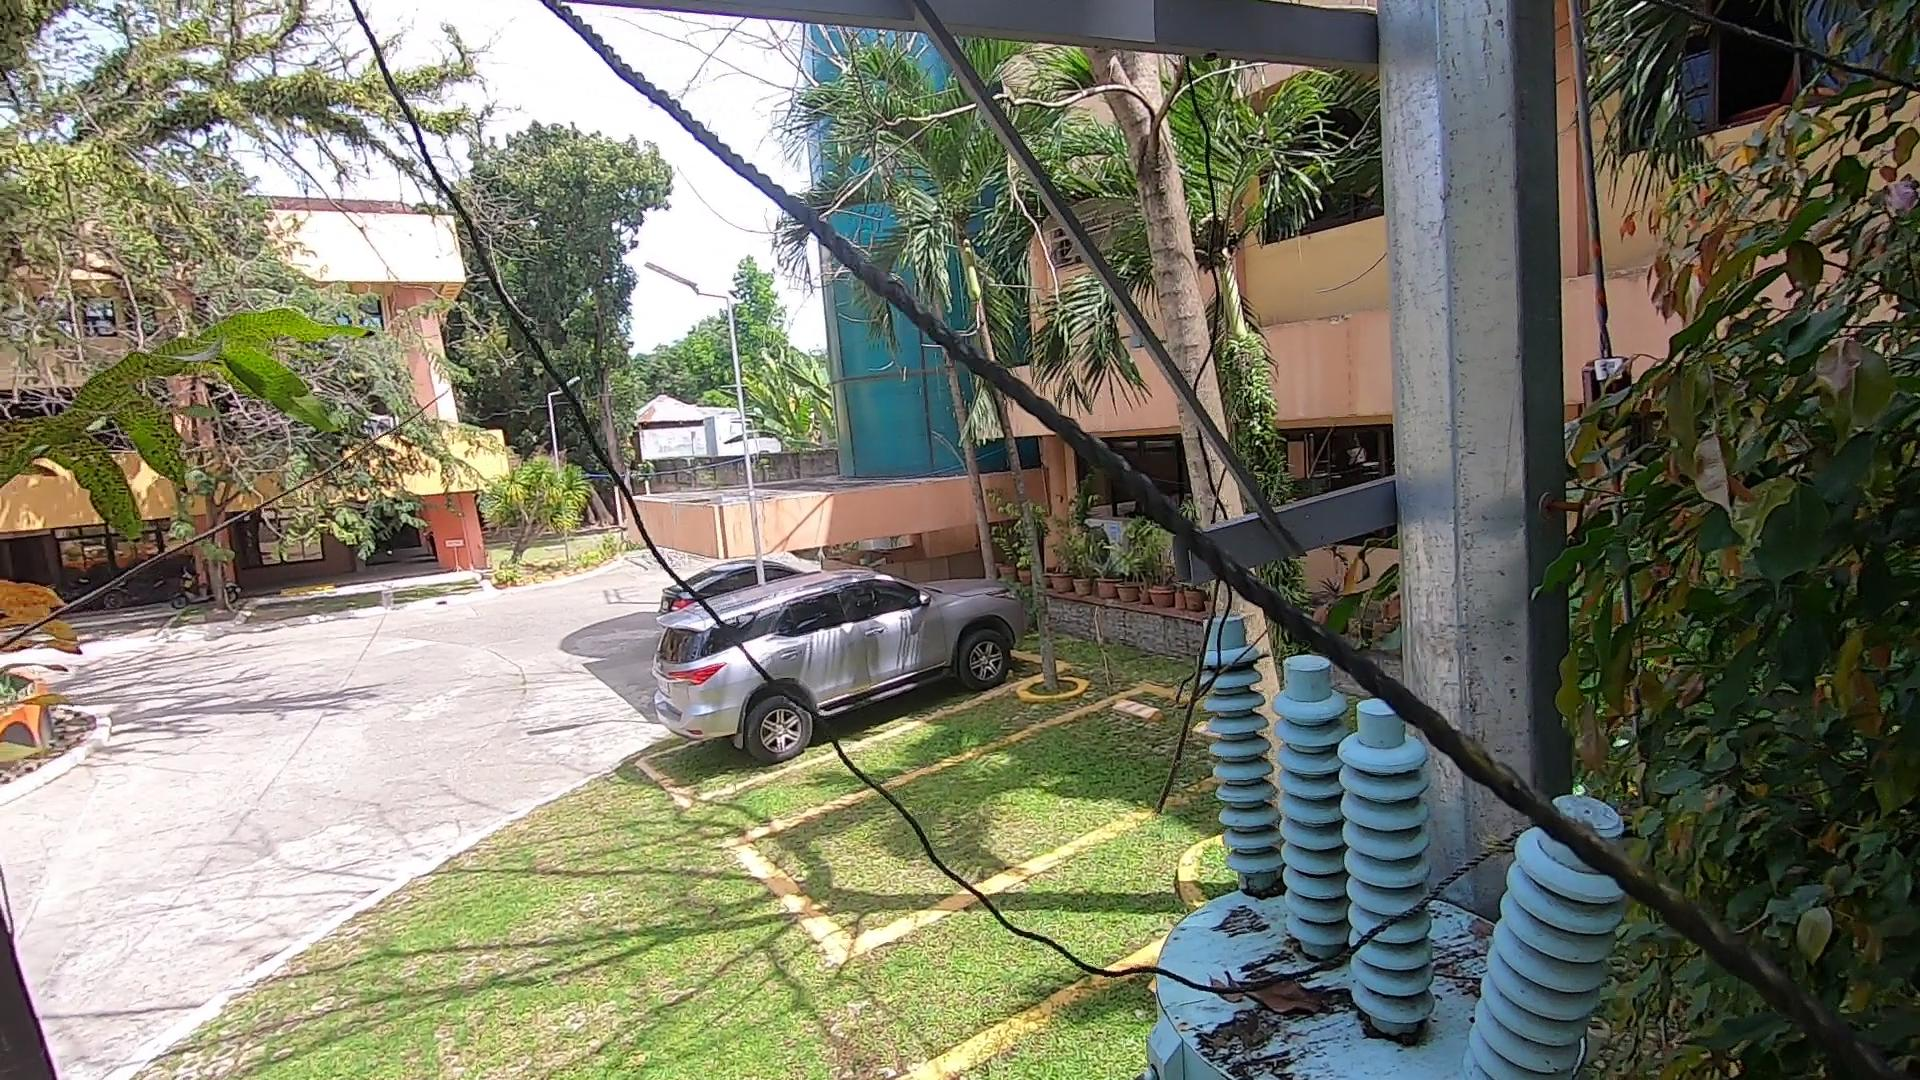leaf: (1188, 942, 1364, 1033), (1236, 876, 1295, 914)
tree branch: (1087, 364, 1311, 819)
